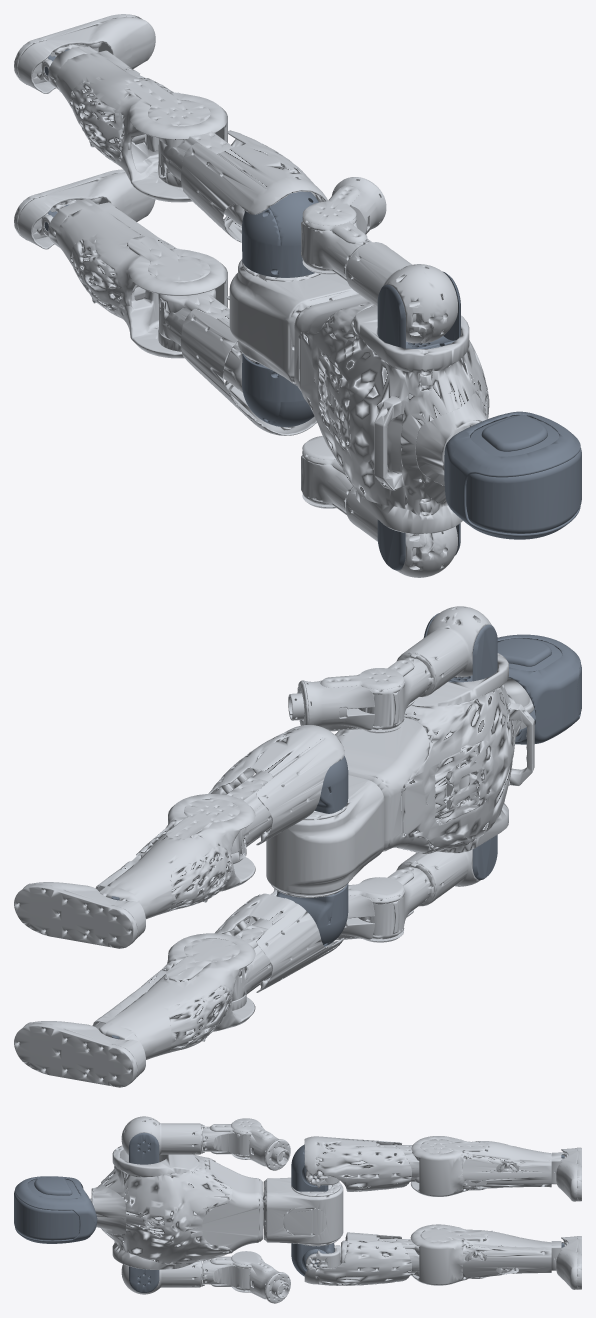
The model's file is asimov_1_hd.glb.
3 views of the same model, one above another, from view 1: azimuth 30°, elevation 25°; view 2: azimuth 150°, elevation 25°; view 3: azimuth 270°, elevation 25° (orthographic). The views are drawn at different scales.
Parts seen in each view (by area): view 1: waist_yaw_link, neck_pitch_link, right_knee_link, left_knee_link, left_hip_yaw_link, pelvis_link, right_hip_yaw_link, left_shoulder_roll_link, left_ankle_roll_link, left_hip_pitch_link, right_ankle_roll_link, right_hip_pitch_link (+6 smaller); view 2: waist_yaw_link, right_knee_link, left_knee_link, pelvis_link, left_hip_yaw_link, right_hip_yaw_link, right_ankle_roll_link, left_ankle_roll_link, neck_pitch_link, left_elbow_link, left_shoulder_roll_link, left_shoulder_yaw_link (+7 smaller); view 3: waist_yaw_link, left_knee_link, right_knee_link, left_hip_yaw_link, neck_pitch_link, pelvis_link, right_hip_yaw_link, left_shoulder_roll_link, left_elbow_link, right_elbow_link, left_shoulder_yaw_link, right_shoulder_yaw_link (+11 smaller).
Part boxes in pixels (bbox=[...]): waist_yaw_link: bbox=[294, 294, 489, 534]; neck_pitch_link: bbox=[444, 411, 581, 539]; right_knee_link: bbox=[48, 198, 227, 358]; left_knee_link: bbox=[48, 44, 227, 202]; left_hip_yaw_link: bbox=[158, 130, 327, 242]; pelvis_link: bbox=[229, 259, 358, 385]; right_hip_yaw_link: bbox=[158, 289, 316, 435]; left_shoulder_roll_link: bbox=[345, 241, 457, 343]; left_ankle_roll_link: bbox=[14, 14, 155, 93]; left_hip_pitch_link: bbox=[242, 191, 318, 277]; right_ankle_roll_link: bbox=[14, 169, 155, 249]; right_hip_pitch_link: bbox=[242, 354, 314, 427]; waist_yaw_link: bbox=[335, 653, 534, 854]; right_knee_link: bbox=[92, 933, 255, 1059]; left_knee_link: bbox=[95, 794, 255, 919]; pelvis_link: bbox=[266, 775, 384, 897]; left_hip_yaw_link: bbox=[208, 725, 344, 864]; right_hip_yaw_link: bbox=[215, 893, 344, 1010]; right_ankle_roll_link: bbox=[14, 1021, 145, 1087]; left_ankle_roll_link: bbox=[14, 882, 145, 948]; neck_pitch_link: bbox=[497, 634, 581, 744]; left_elbow_link: bbox=[297, 668, 404, 733]; left_shoulder_roll_link: bbox=[396, 606, 491, 697]; left_shoulder_yaw_link: bbox=[358, 657, 434, 729]; waist_yaw_link: bbox=[91, 1145, 263, 1269]; left_knee_link: bbox=[410, 1136, 567, 1196]; right_knee_link: bbox=[410, 1224, 567, 1285]; left_hip_yaw_link: bbox=[304, 1136, 419, 1191]; neck_pitch_link: bbox=[14, 1176, 97, 1243]; pelvis_link: bbox=[263, 1177, 343, 1246]; right_hip_yaw_link: bbox=[304, 1232, 419, 1285]; left_shoulder_roll_link: bbox=[121, 1116, 204, 1155]; left_elbow_link: bbox=[231, 1118, 290, 1170]; right_elbow_link: bbox=[231, 1251, 290, 1303]; left_shoulder_yaw_link: bbox=[202, 1124, 260, 1157]; right_shoulder_yaw_link: bbox=[202, 1256, 261, 1290].
Size of the model in its own units: 0.2575 by 0.4237 by 1.25.
